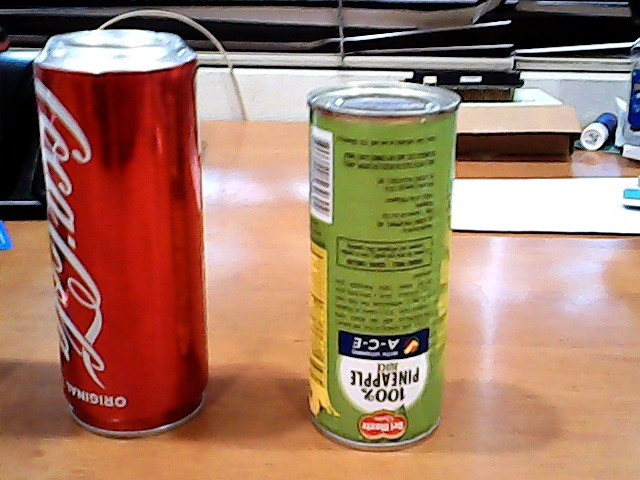Cola: (13, 22, 229, 452)
Pine Juice: (290, 67, 478, 457)
